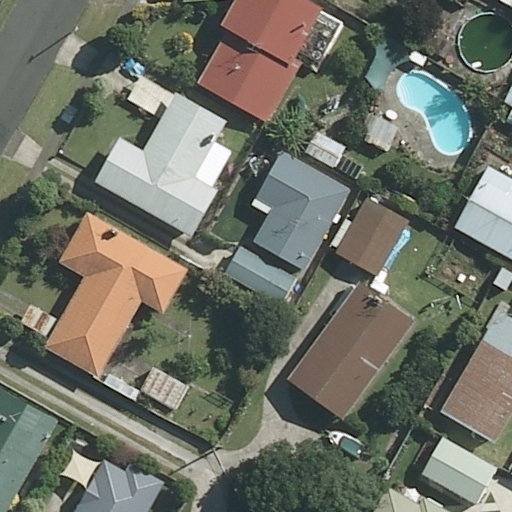DT: (65, 22, 81, 36)
